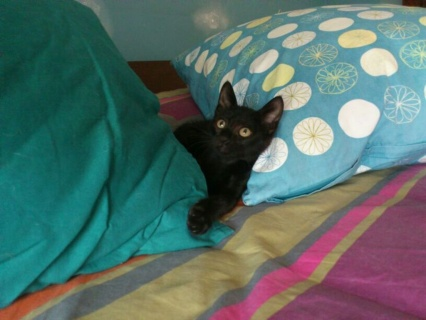Cat: (172, 80, 284, 236)
